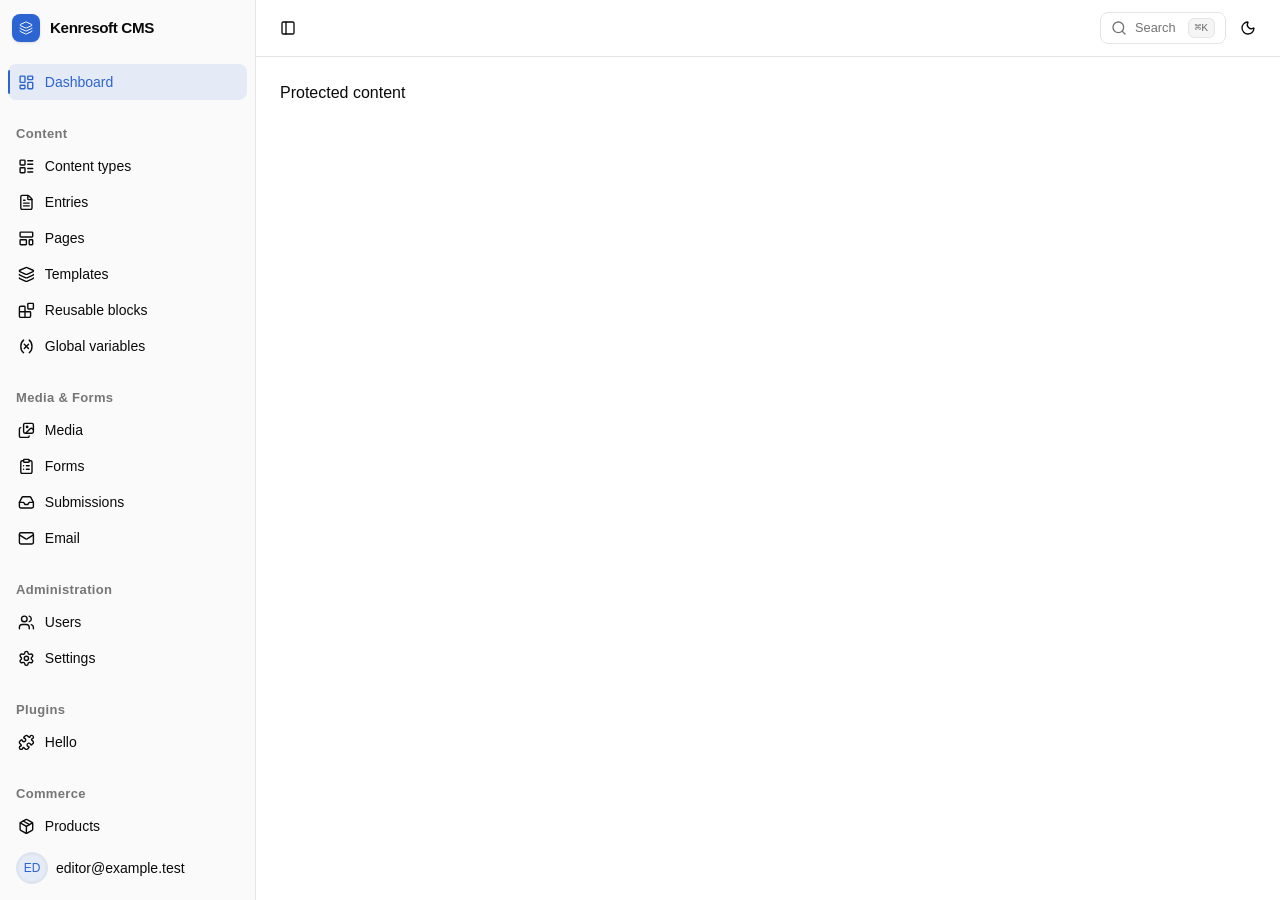
it: AppLayout › never asks for version information for a non-admin
Click the text "editor@example.test" at (120, 868), box left=56, top=858, right=185, bottom=878
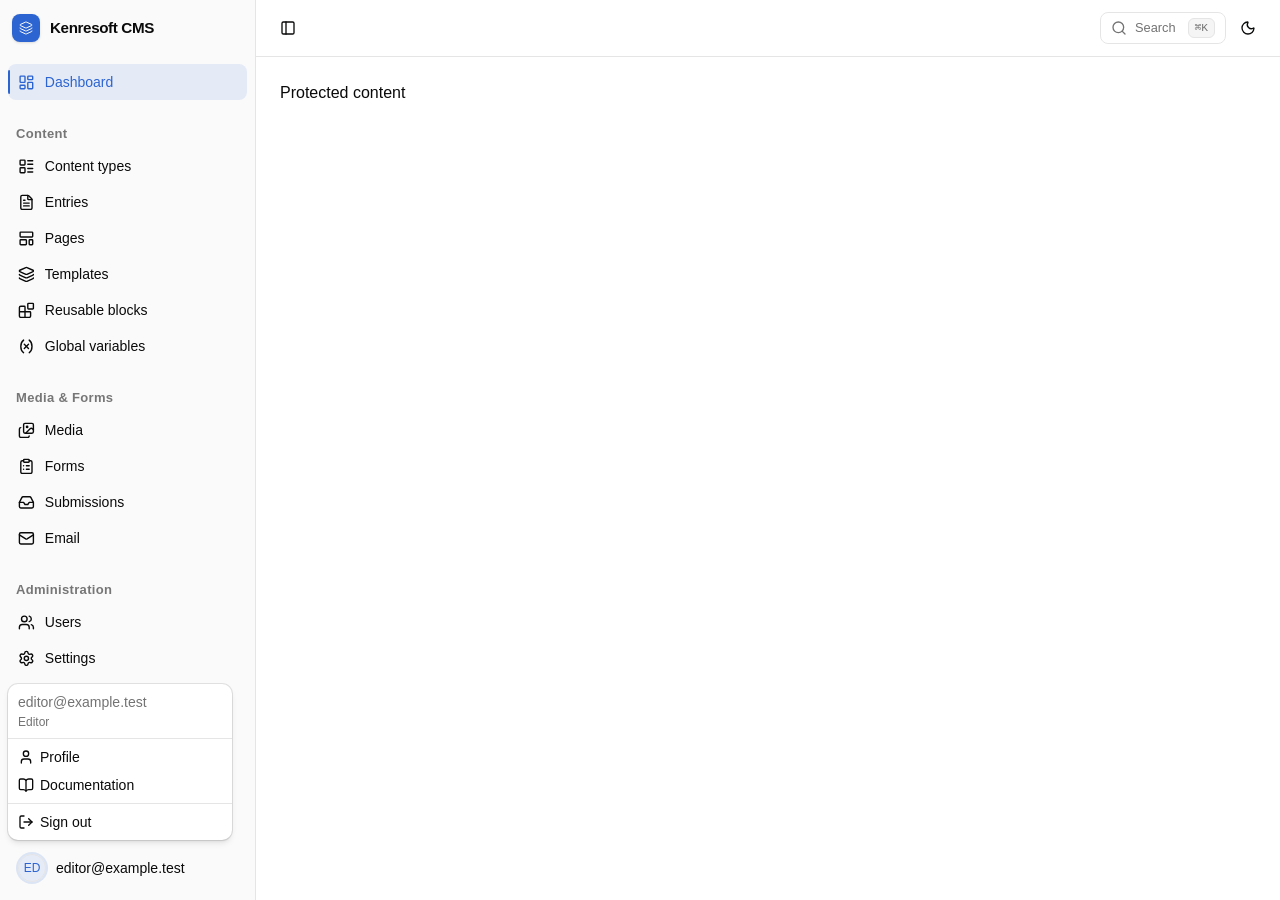
Result: the menu item "Profile" is shown at left=18, top=749, right=80, bottom=765
